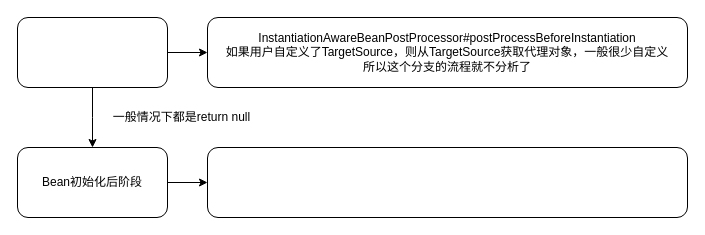
This 705x235 diagram has some shape labels left out. Each missing label, with the box of its shape:
BeanPostProcessor#postProcessAfterInitialization 生成代理对象: (206, 146, 688, 218)
Bean实例化前阶段: (16, 16, 168, 88)
